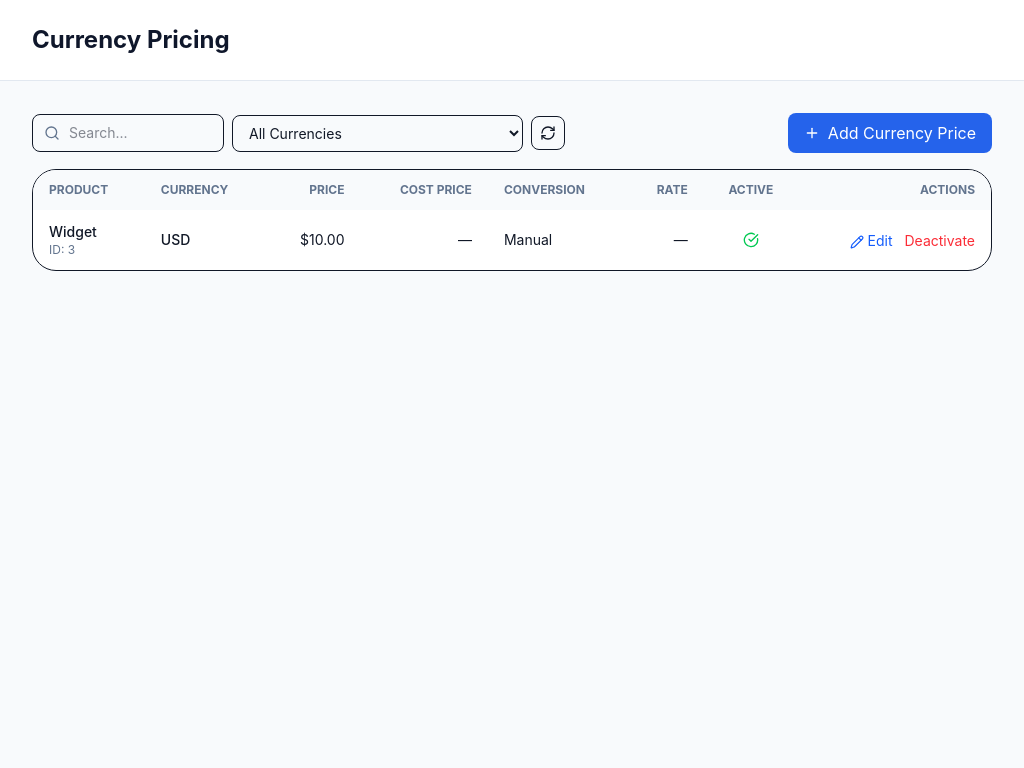
Test: Currency Pricing dialogs › Cancel and the header close button dismiss without saving
Expected: the text "Widget" is shown, [49,223,97,240]
Click the button "Add Currency Price": point(890, 133) [788,113,992,153]
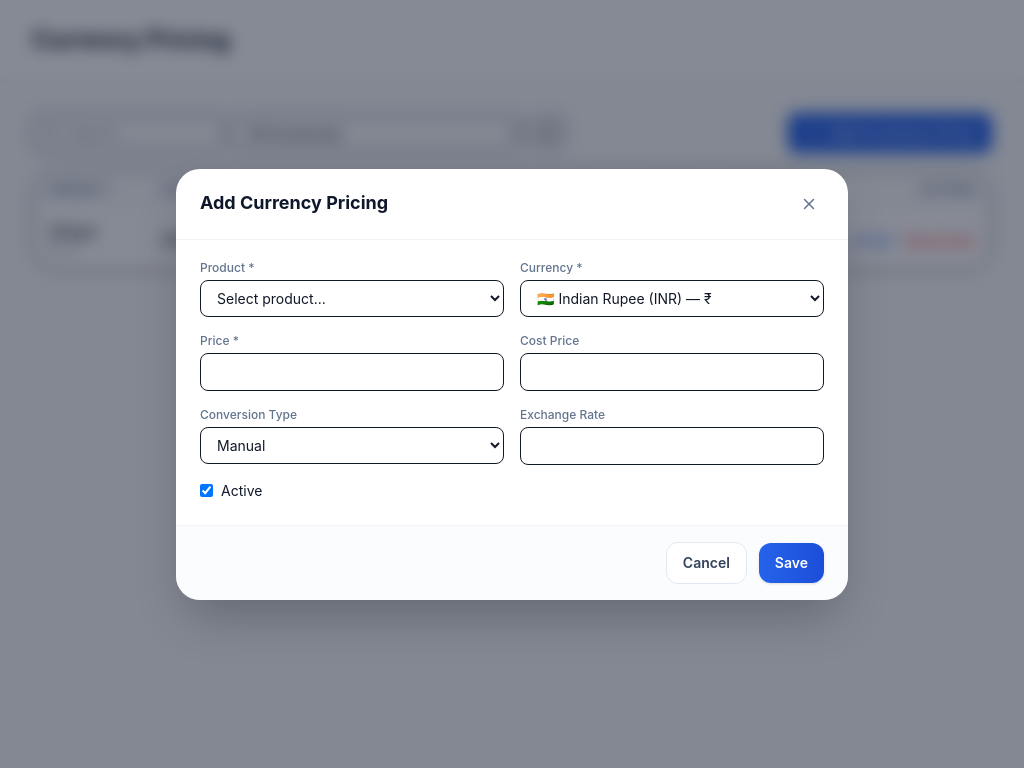
Click the button "Cancel": point(706, 562) [666,542,747,584]
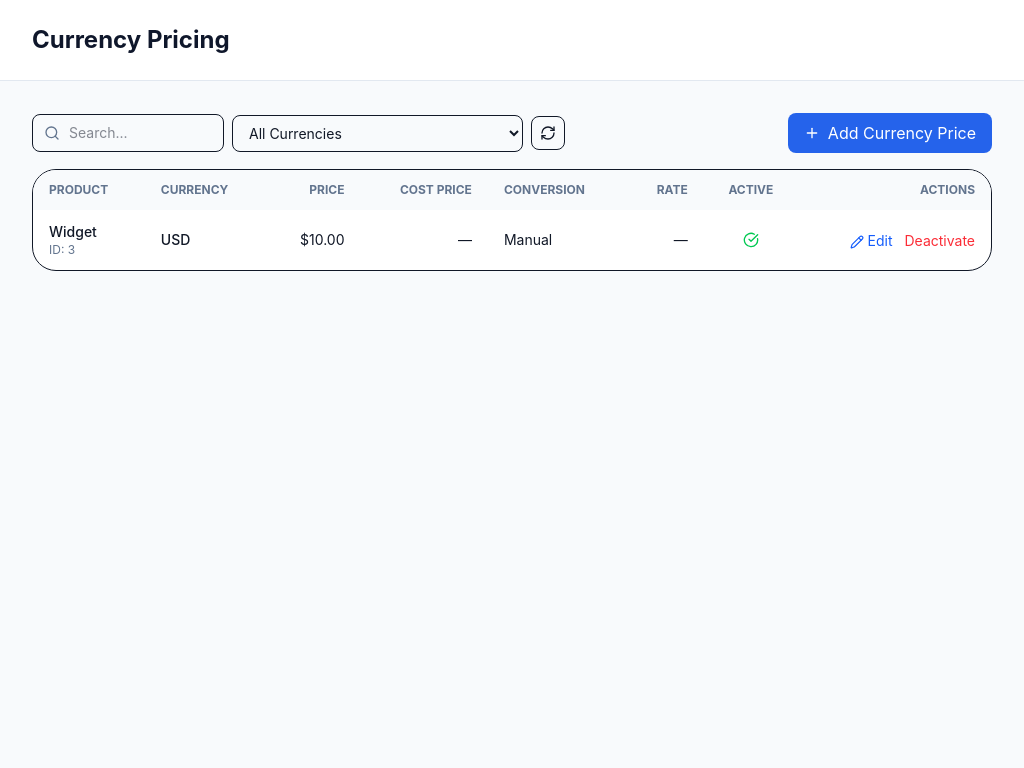
Now the dialog is gone
Click the button "Add Currency Price": point(890, 133) [788,113,992,153]
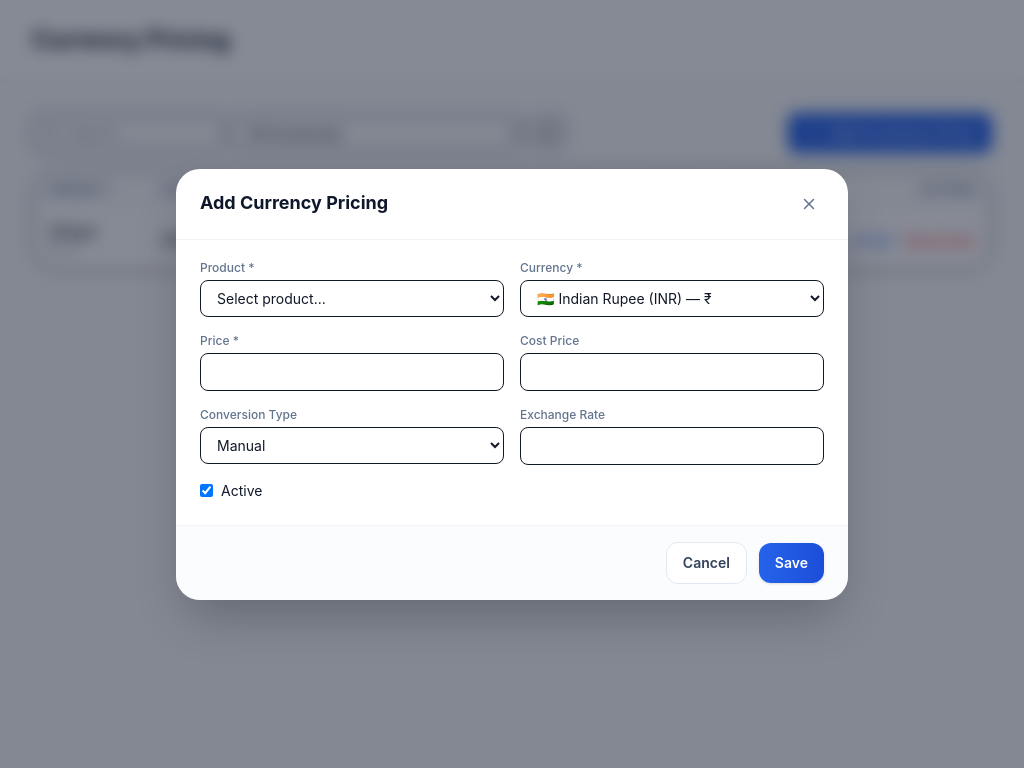
Click the button named "Close dialog": point(809, 204) [794,188,824,218]
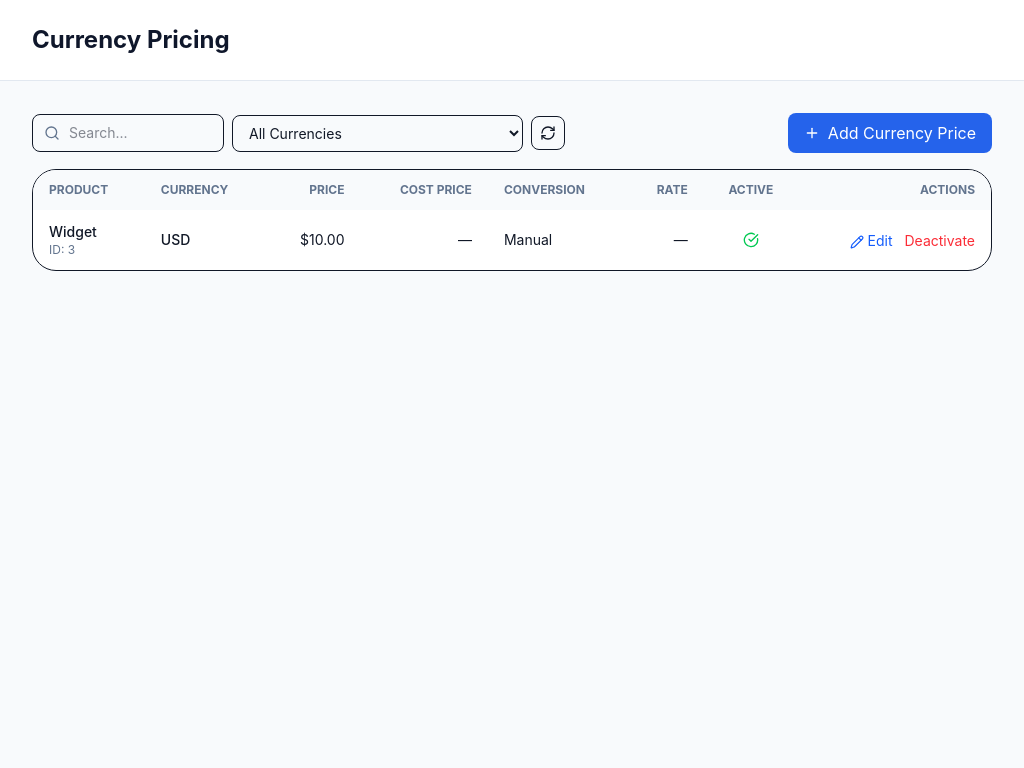
Now the dialog is gone
